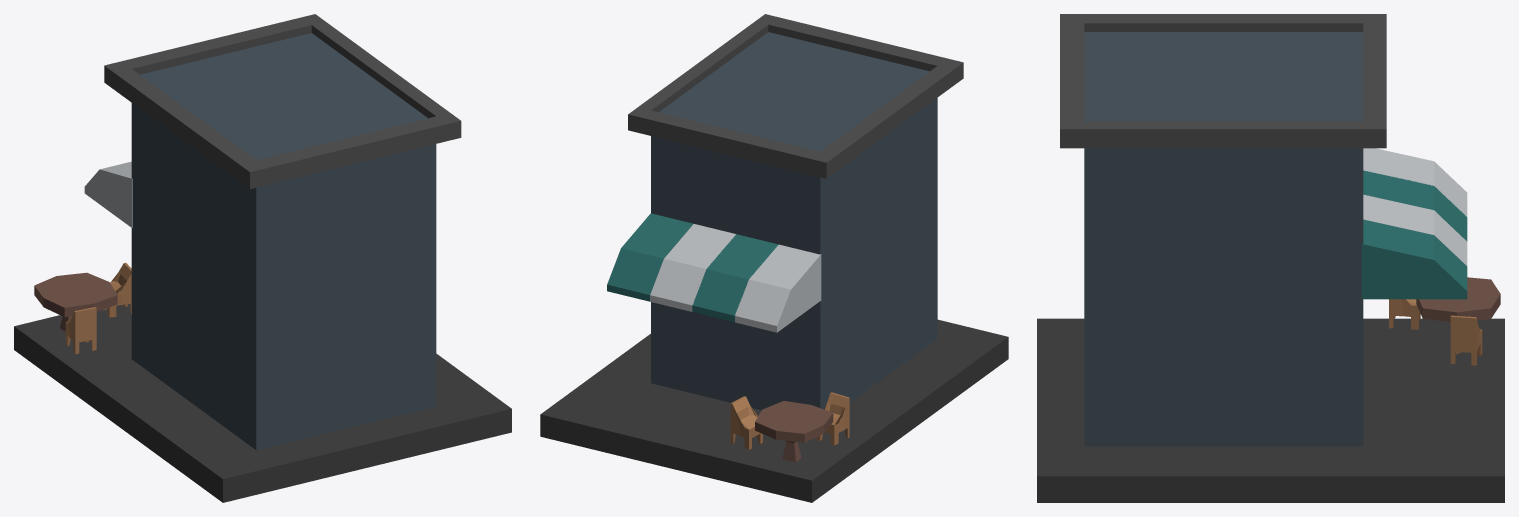
The model's file is Building.fbx.
3 views of the same model, side by side, from view 1: azimuth 30°, elevation 25°; view 2: azimuth 150°, elevation 25°; view 3: azimuth 270°, elevation 25° (orthographic). The views are drawn at different scales.
Visible parts, largest first — view 1: Building, Ground, TopPart, Table, OverheadPart, Chair2, Chair1; view 2: Building, Ground, OverheadPart, TopPart, Table, Chair1, Chair2; view 3: Building, Ground, TopPart, OverheadPart, Table, Chair1, Chair2.
Boxes of the visible parts, x1,y1,x2,y2 form: Building: (131,33,436,450); Ground: (14,304,511,502); TopPart: (104,14,461,189); Table: (34,272,117,331); OverheadPart: (84,161,132,227); Chair2: (65,307,96,354); Chair1: (103,262,131,317); Building: (651,32,937,410); Ground: (540,319,1008,502); OverheadPart: (607,213,821,332); TopPart: (628,14,963,178); Table: (755,401,833,462); Chair1: (730,396,762,449); Chair2: (816,392,849,445); Building: (1084,32,1363,446); Ground: (1037,318,1504,502); TopPart: (1060,14,1386,148); OverheadPart: (1361,148,1467,299); Table: (1416,277,1500,321); Chair1: (1450,315,1482,365); Chair2: (1389,299,1420,329).
Size of the model in its own units: 740 by 769 by 927.
